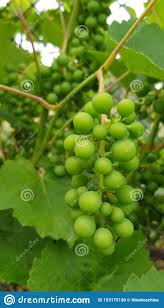grapes: (70, 92, 144, 258)
